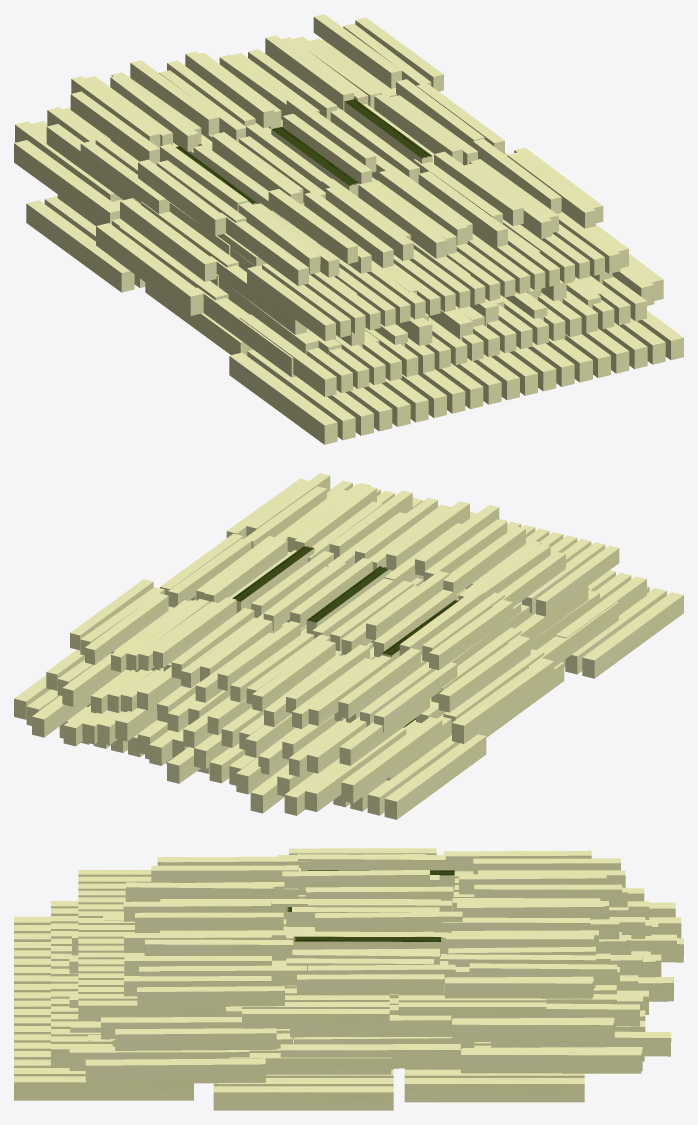
The model's file is salatalıkkap 1.fbx.
The picture shows the model from 3 angles, top to bottom: view 1: azimuth 30°, elevation 25°; view 2: azimuth 150°, elevation 25°; view 3: azimuth 270°, elevation 25°; orthographic projection. The views are drawn at different scales.
Visible parts, largest first — view 1: salatalıklp; view 2: salatalıklp; view 3: salatalıklp.
Part boxes in pixels (x1,y1,x2,y2): salatalıklp: [14, 14, 683, 444]; salatalıklp: [14, 473, 683, 819]; salatalıklp: [14, 848, 683, 1110].
Bounding box in the file's own units: 250 × 76.93 × 403.
